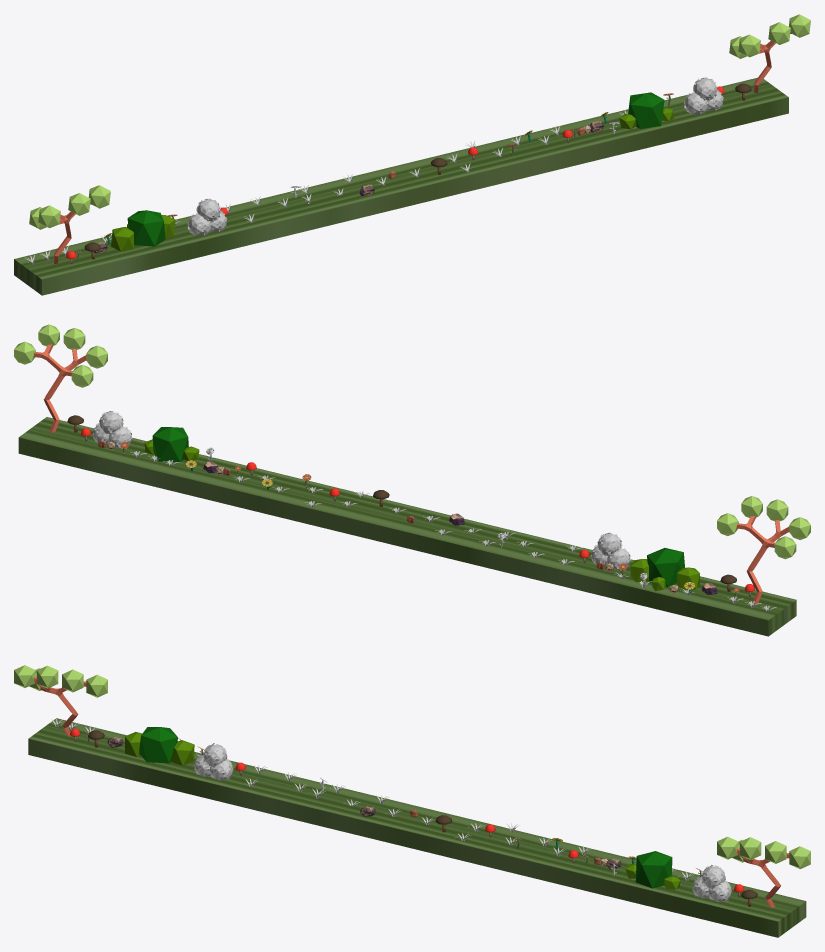
Rendered from pasto frpgger.fbx.
The picture shows the model from 3 angles, top to bottom: view 1: azimuth 30°, elevation 25°; view 2: azimuth 150°, elevation 25°; view 3: azimuth 330°, elevation 25°; orthographic projection.
Visible parts, largest first — view 1: Cube.003, Icosphere.001, Icosphere, Icosphere.002, Icosphere.006; view 2: Cube.003, Icosphere, Icosphere.002, Icosphere.001, Icosphere.006; view 3: Cube.003, Icosphere, Icosphere.002, Icosphere.001, Icosphere.006.
Boxes of the visible parts, x1=… form: Cube.003: x1=14, y1=77, x2=788, y2=295; Icosphere.001: x1=111, y1=210, x2=175, y2=251; Icosphere: x1=29, y1=185, x2=110, y2=263; Icosphere.002: x1=729, y1=14, x2=810, y2=92; Icosphere.006: x1=619, y1=92, x2=674, y2=129; Cube.003: x1=18, y1=417, x2=796, y2=636; Icosphere: x1=717, y1=496, x2=810, y2=604; Icosphere.002: x1=14, y1=324, x2=107, y2=432; Icosphere.001: x1=630, y1=548, x2=699, y2=591; Icosphere.006: x1=144, y1=427, x2=199, y2=461; Cube.003: x1=28, y1=718, x2=806, y2=937; Icosphere: x1=14, y1=665, x2=107, y2=736; Icosphere.002: x1=717, y1=836, x2=810, y2=907; Icosphere.001: x1=125, y1=727, x2=194, y2=765; Icosphere.006: x1=625, y1=851, x2=680, y2=889.
Bounding box in the file's own units: 1618 × 203 × 161.
